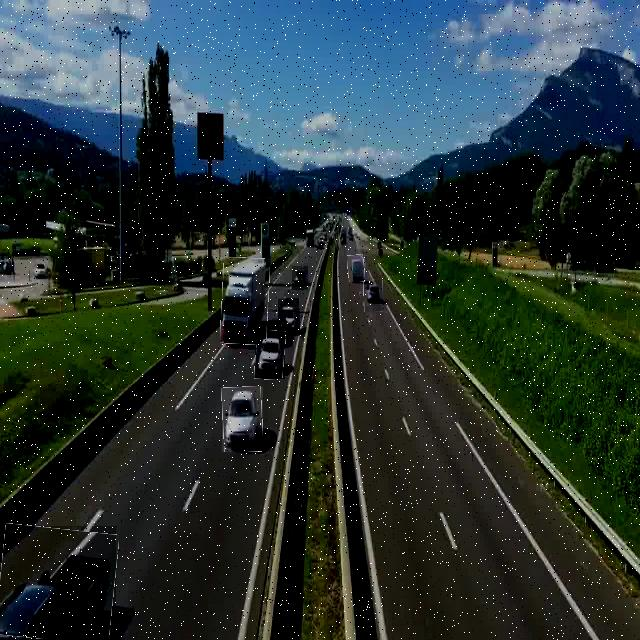Car: (222, 387, 263, 452), (255, 330, 285, 379), (278, 298, 300, 336), (364, 280, 383, 312), (348, 255, 365, 282), (292, 266, 308, 290)
Truck: (0, 526, 116, 640), (221, 257, 269, 345)
